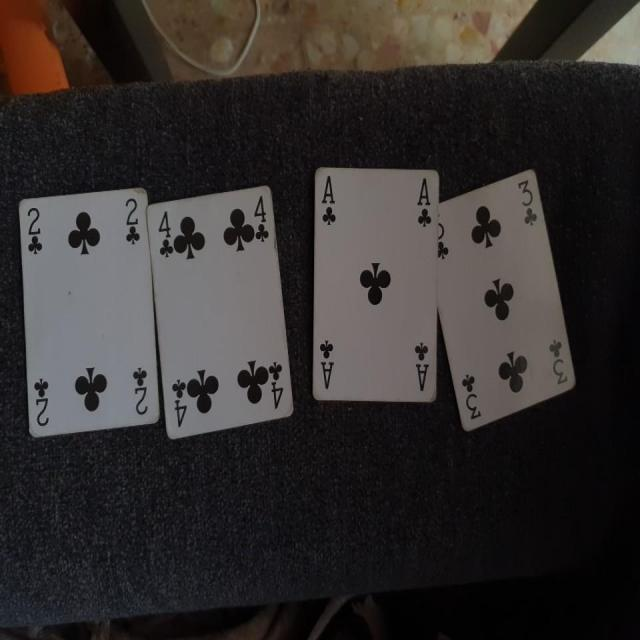2 Trefoils: (16, 184, 160, 437)
3 Trefoils: (438, 169, 577, 433)
4 Trefoils: (147, 183, 295, 440)
A Trefoils: (312, 165, 440, 402)
